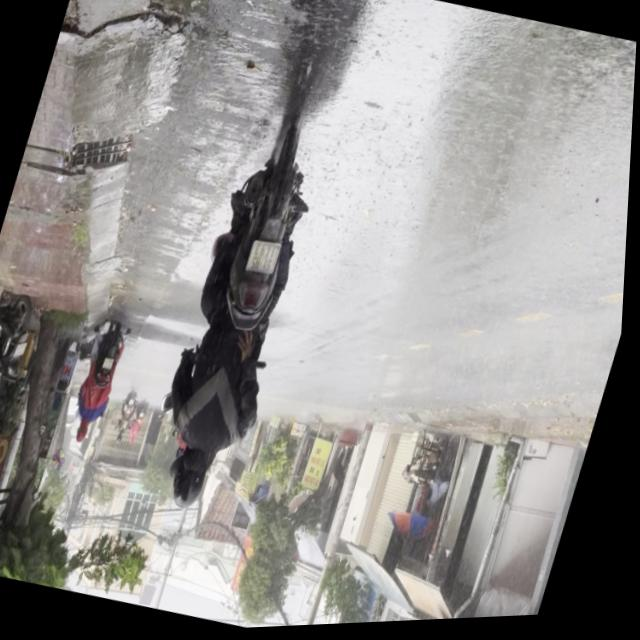helmet: (169, 444, 223, 518)
licenseplate: (138, 117, 342, 529)
nohelmet: (249, 242, 284, 279)
